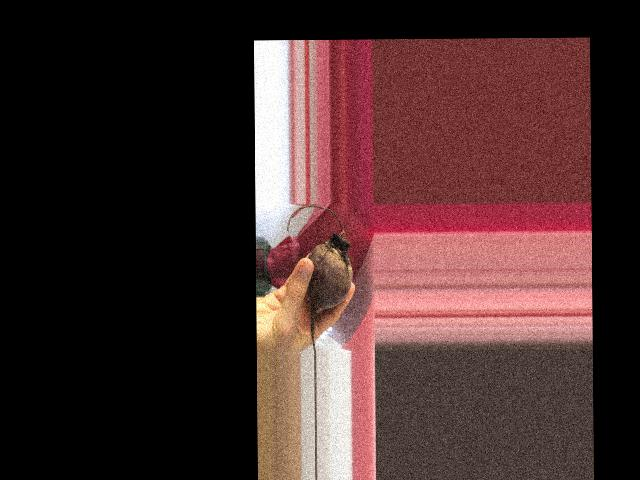beet: (286, 204, 353, 351)
